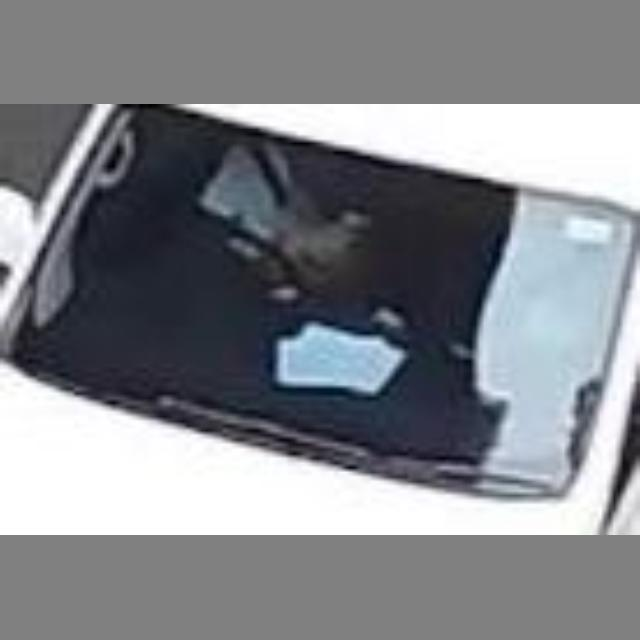pakai: (176, 136, 348, 294)
